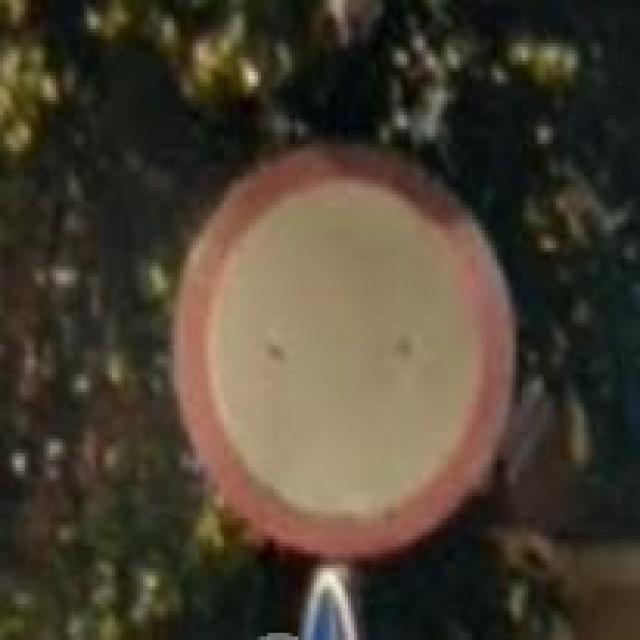Zakaz ruchu w obu kierunkach: (174, 140, 516, 558)
